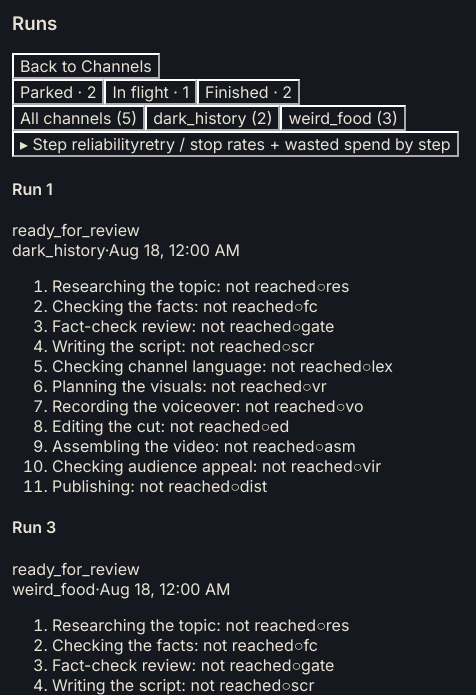
RunsHub archive controls › keeps lifecycle counts and rendered rows scoped to the selected channel
Click the button "dark_history (2)" at (213, 118), box [145, 105, 280, 131]
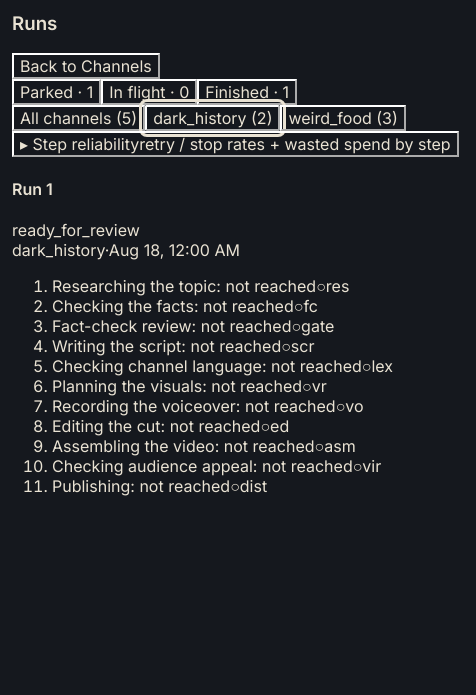
Expected: the tab named "In flight 0" is shown, [101, 79, 197, 105]
Result: the heading "Run 3" is gone
